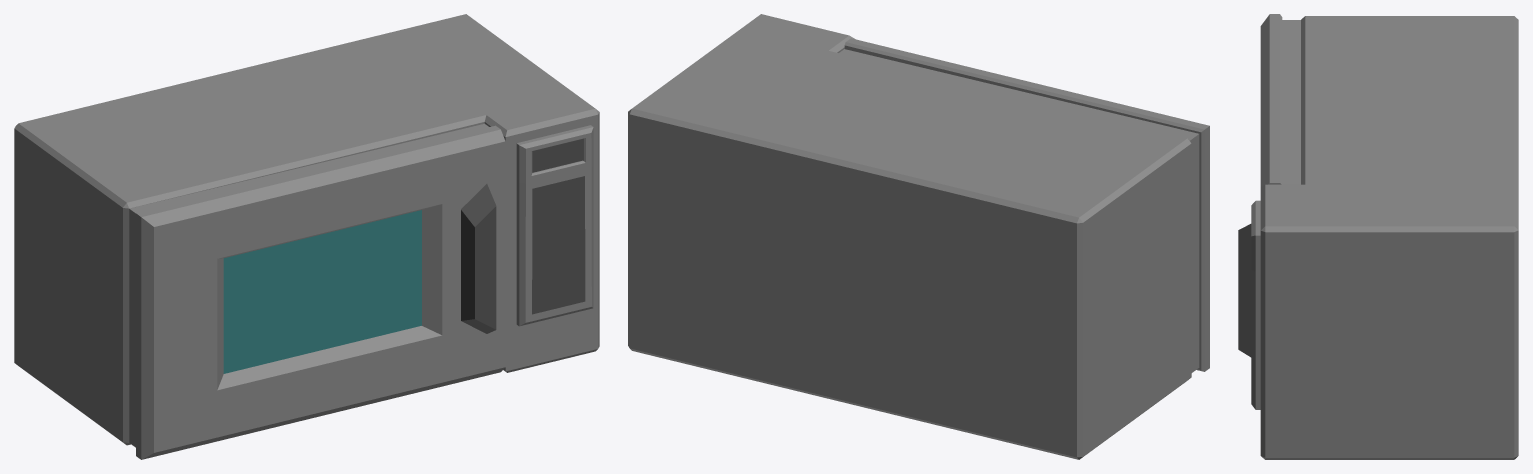
3 views of the same model, side by side, from view 1: azimuth 30°, elevation 25°; view 2: azimuth 150°, elevation 25°; view 3: azimuth 270°, elevation 25° (orthographic). The views are drawn at different scales.
Visible parts, largest first — view 1: Microwave, Microwave.001; view 2: Microwave, Microwave.001; view 3: Microwave, Microwave.001.
Boxes of the visible parts, x1,y1,x2,y2 form: Microwave: (14, 14, 599, 447); Microwave.001: (136, 125, 505, 459); Microwave: (628, 14, 1199, 459); Microwave.001: (844, 38, 1209, 371); Microwave: (1251, 16, 1518, 459); Microwave.001: (1238, 14, 1282, 357).
Size of the model in its own units: 3.78 by 1.92 by 2.09.
